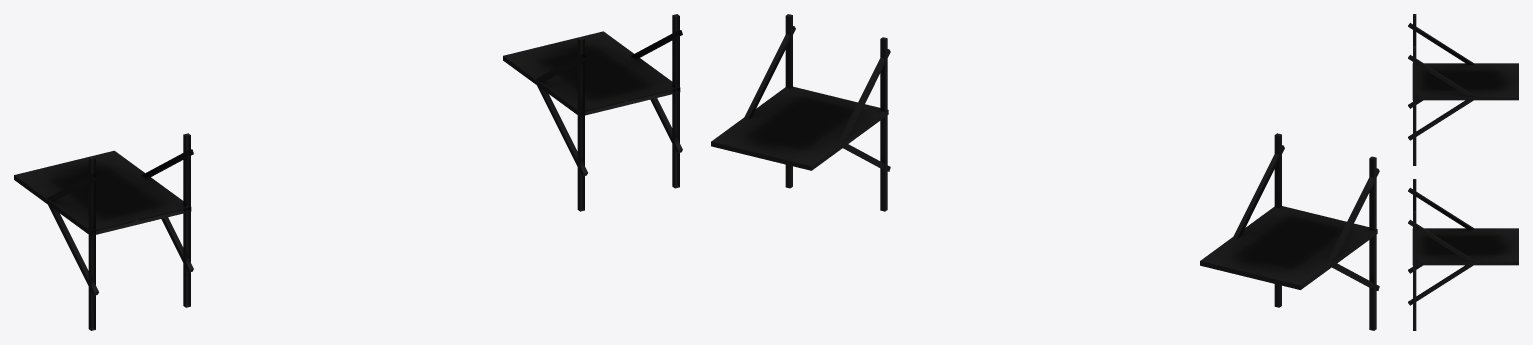
Rendered from ProjectorFrame.DAE.
The picture shows the model from 3 angles, left to right: view 1: azimuth 30°, elevation 25°; view 2: azimuth 150°, elevation 25°; view 3: azimuth 270°, elevation 25°; orthographic projection. The views are drawn at different scales.
Visible parts, largest first — view 1: ProjectorFrame; view 2: ProjectorFrame; view 3: ProjectorFrame.
Boxes of the visible parts, left/top/right/bottom form: ProjectorFrame: left=14, top=14, right=682, bottom=330; ProjectorFrame: left=711, top=14, right=1379, bottom=330; ProjectorFrame: left=1408, top=14, right=1518, bottom=330.
Size of the model in its own units: 174 by 41 by 48.43.
Materials: 1 (1 with a texture image).
